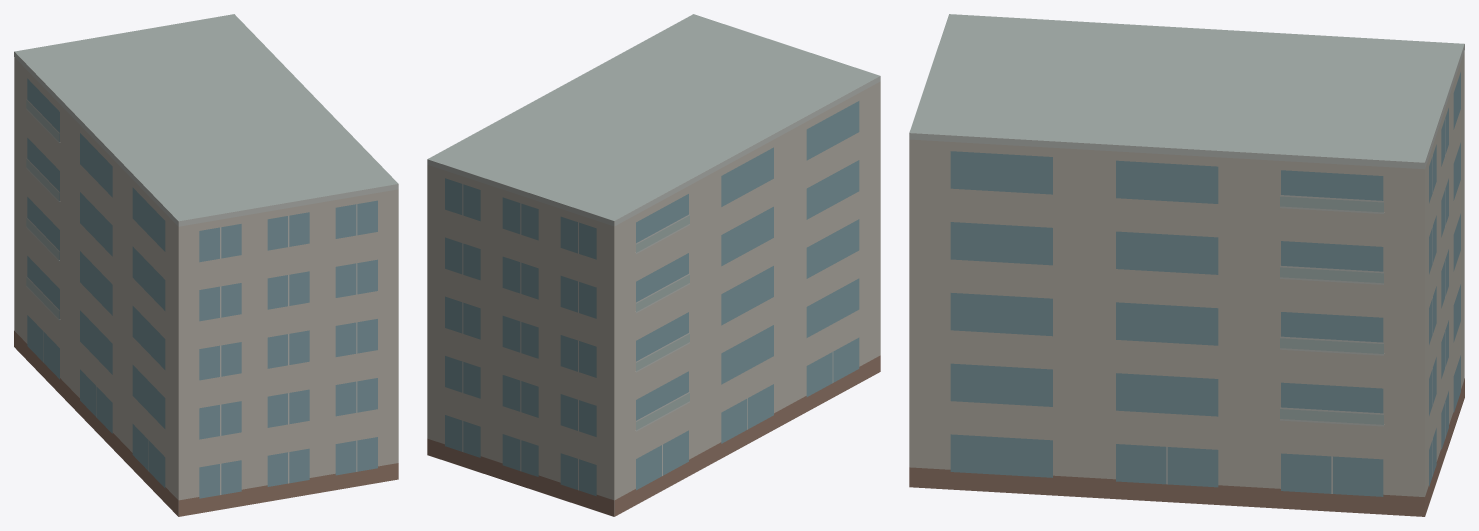
The model's file is survey-upis-32959148.glb.
The picture shows the model from 3 angles, left to right: view 1: azimuth 30°, elevation 25°; view 2: azimuth 150°, elevation 25°; view 3: azimuth 270°, elevation 25°; orthographic projection. The views are drawn at different scales.
Parts seen in each view (by area): view 1: survey-upis-32959148.tmp; view 2: survey-upis-32959148.tmp; view 3: survey-upis-32959148.tmp.
Part boxes in pixels (left/top/right/bottom): survey-upis-32959148.tmp: left=14, top=14, right=398, bottom=516; survey-upis-32959148.tmp: left=427, top=14, right=880, bottom=516; survey-upis-32959148.tmp: left=909, top=14, right=1464, bottom=516.
Size of the model in its own units: 12.08 by 13.4 by 19.06.
